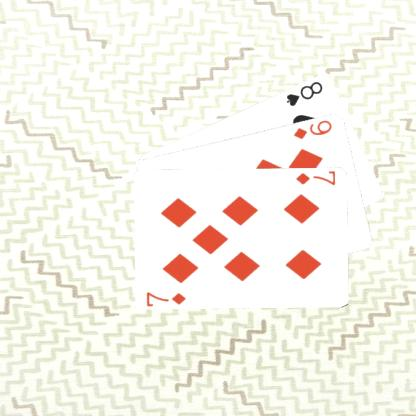7D: (144, 288, 188, 305), (294, 170, 338, 186)
8S: (284, 78, 324, 107)
9D: (291, 117, 334, 141)
